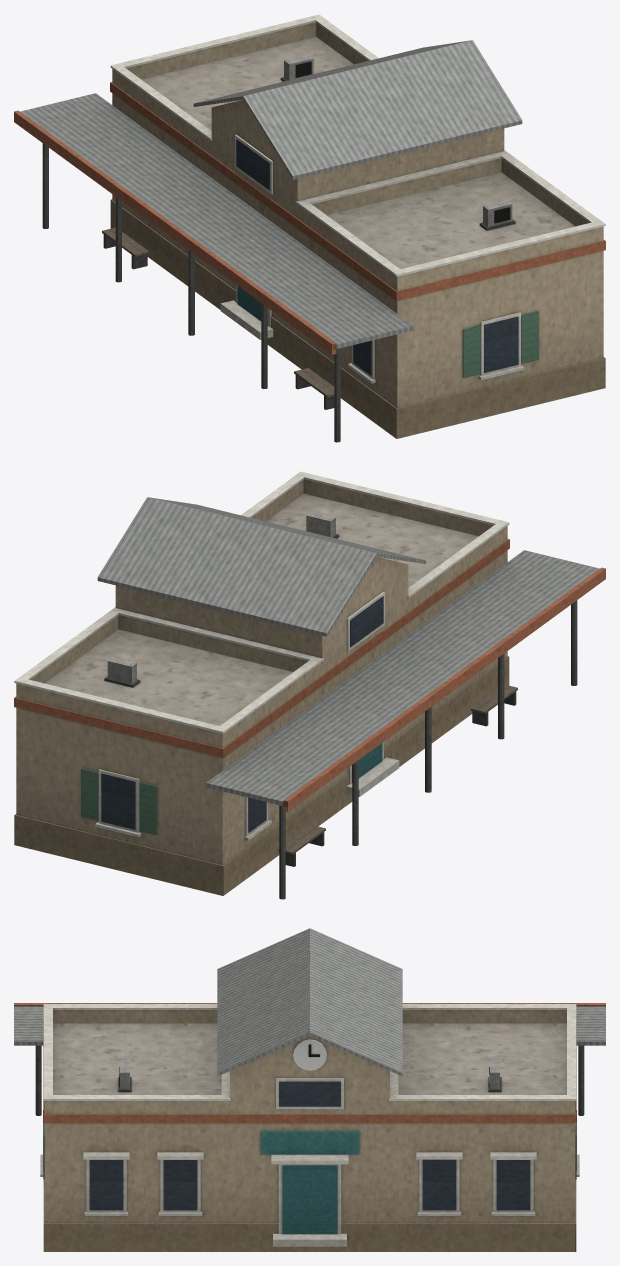
The model's file is civ_station.glb.
3 renders of one model, top to bottom at view 1: azimuth 30°, elevation 25°; view 2: azimuth 150°, elevation 25°; view 3: azimuth 270°, elevation 25°, orthographic. The views are drawn at different scales.
Parts seen in each view (by area): view 1: civ_station; view 2: civ_station; view 3: civ_station.
Part boxes in pixels (x1,y1,x2,y2): civ_station: [14, 14, 605, 442]; civ_station: [14, 471, 605, 899]; civ_station: [14, 928, 605, 1251].
Bounding box in the file's own units: 10.55 × 8.02 × 19.2.
1 material, 1 textured.
